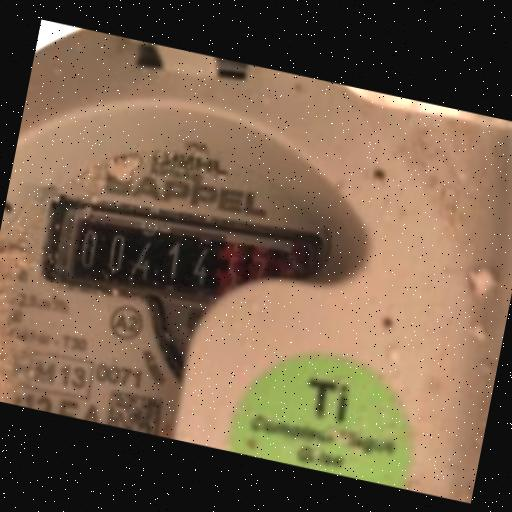0: (67, 218, 110, 283), (97, 221, 137, 287)
1: (151, 229, 196, 296)
4: (179, 234, 224, 301), (123, 224, 166, 292)
5: (208, 238, 253, 306)
7: (240, 240, 283, 292)
border_water_meter_number: (54, 189, 322, 338)
